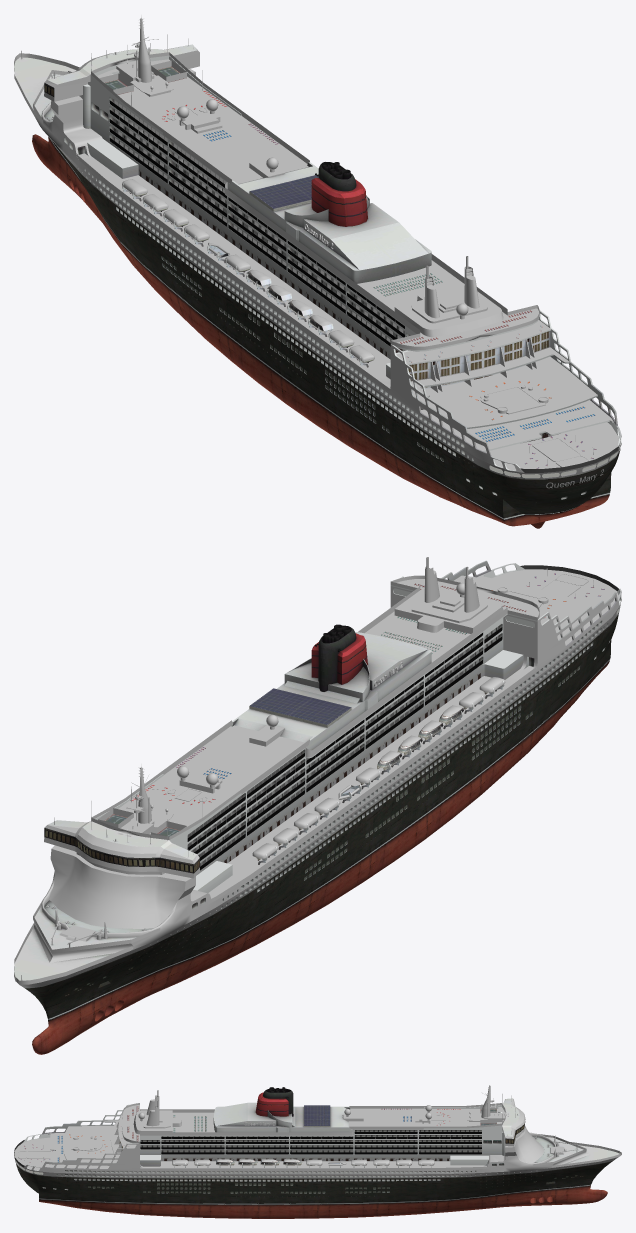
The model's file is Ship Queen Mary 2 N220915.FBX.
3 renders of one model, top to bottom at view 1: azimuth 30°, elevation 25°; view 2: azimuth 150°, elevation 25°; view 3: azimuth 270°, elevation 25°, orthographic. The views are drawn at different scales.
Parts seen in each view (by area): view 1: QM_niz, QM_paluba_doski, QM_body, QM_paluba, QM_verh, QM_okna, QM_elda_2, QM_zabor, QM_okna_peregorodki, QM_truba, Object04, QM_body01 (+11 smaller); view 2: QM_niz, QM_paluba, QM_paluba_doski, QM_body, QM_okna, QM_verh, QM_zabor, QM_elda_2, Object04, QM_zabor_2, QM_okna_peregorodki, QM_truba (+7 smaller); view 3: QM_niz, QM_okna, QM_body, QM_paluba, QM_paluba_doski, QM_zabor, QM_verh, QM_zabor_2, QM_elda_2, Object04, QM_zabor_3, QM_body01 (+9 smaller).
Boxes of the visible parts, x1,y1,x2,y2 form: QM_niz: [32, 134, 621, 528]; QM_paluba_doski: [96, 59, 618, 470]; QM_body: [83, 55, 621, 470]; QM_paluba: [33, 47, 621, 472]; QM_verh: [227, 162, 431, 283]; QM_okna: [44, 83, 586, 499]; QM_elda_2: [177, 99, 503, 337]; QM_zabor: [109, 100, 406, 346]; QM_okna_peregorodki: [114, 100, 403, 342]; QM_truba: [311, 162, 367, 226]; Object04: [14, 44, 196, 121]; QM_body01: [91, 52, 539, 349]; QM_niz: [20, 603, 620, 1054]; QM_paluba: [34, 586, 621, 962]; QM_paluba_doski: [118, 569, 619, 834]; QM_body: [95, 560, 621, 893]; QM_okna: [44, 620, 610, 909]; QM_verh: [231, 632, 431, 750]; QM_zabor: [187, 627, 502, 870]; QM_elda_2: [177, 557, 503, 793]; Object04: [14, 820, 196, 980]; QM_zabor_2: [14, 565, 618, 984]; QM_okna_peregorodki: [187, 640, 476, 866]; QM_truba: [311, 624, 367, 691]; QM_niz: [15, 1156, 619, 1218]; QM_okna: [42, 1121, 525, 1193]; QM_body: [23, 1104, 505, 1170]; QM_paluba: [23, 1099, 588, 1174]; QM_paluba_doski: [14, 1105, 505, 1170]; QM_zabor: [140, 1132, 481, 1154]; QM_verh: [213, 1102, 353, 1132]; QM_zabor_2: [14, 1134, 621, 1170]; QM_elda_2: [133, 1090, 431, 1134]; Object04: [502, 1098, 619, 1164]; QM_zabor_3: [140, 1109, 353, 1135]; QM_body01: [122, 1103, 506, 1143].
Size of the model in its own units: 167 by 242 by 1086.
